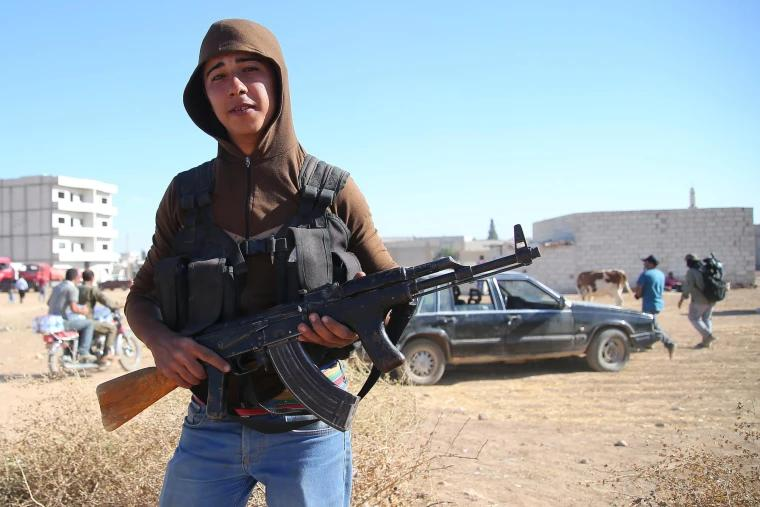larga: (95, 225, 543, 433)
